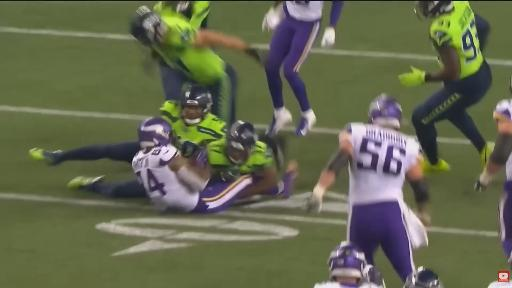Helmet: (328, 242, 366, 280), (226, 121, 257, 165), (131, 6, 165, 46), (180, 85, 212, 125), (368, 94, 402, 129), (138, 117, 172, 148), (404, 267, 443, 287), (415, 1, 453, 18)
Jersey: (346, 123, 421, 204), (153, 14, 225, 85), (132, 146, 199, 212), (430, 2, 483, 79), (160, 101, 226, 157), (207, 138, 274, 180), (154, 1, 210, 27), (285, 1, 323, 21), (494, 99, 511, 121), (314, 282, 349, 287), (488, 282, 511, 287)
Player: (308, 94, 430, 281), (399, 1, 491, 172), (131, 7, 261, 124), (132, 118, 257, 213), (191, 122, 296, 199), (263, 1, 323, 135), (196, 121, 296, 194), (475, 99, 511, 264), (315, 242, 385, 287), (30, 142, 139, 165), (144, 51, 183, 100), (403, 267, 443, 287)
